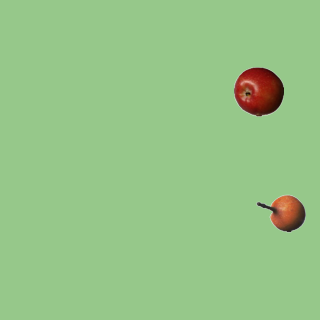Apple Braeburn: (233, 66, 283, 116)
Granadilla: (255, 188, 305, 238)
